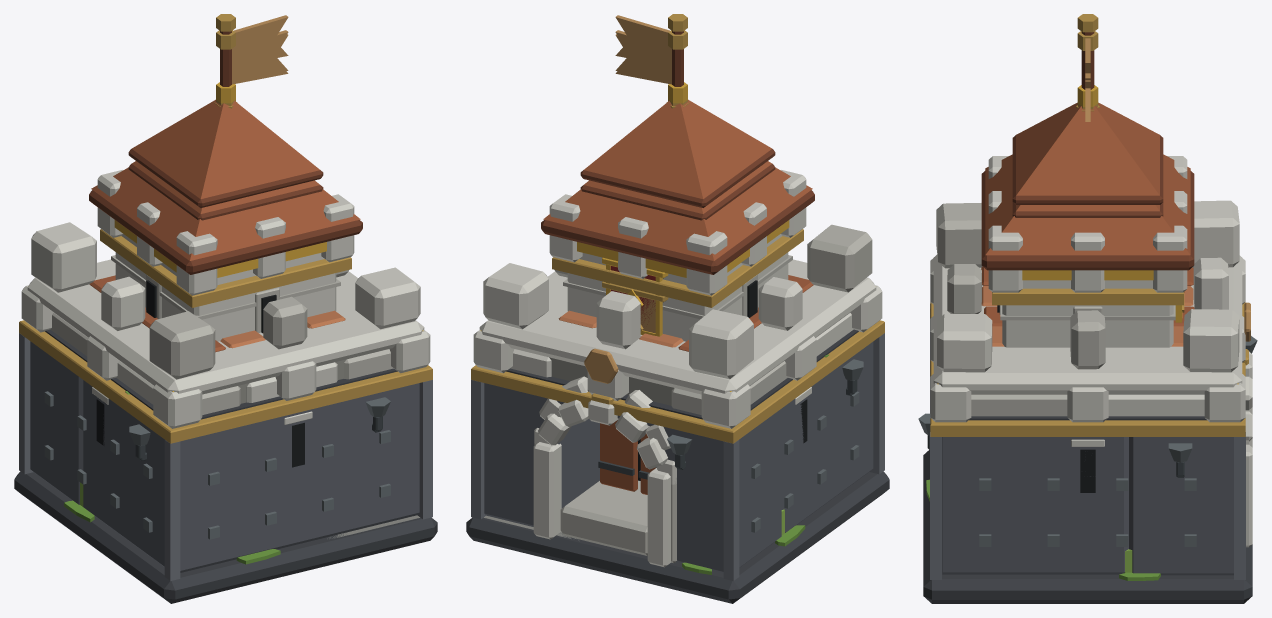
Rendered from barracks.glb.
The picture shows the model from 3 angles, left to right: view 1: azimuth 30°, elevation 25°; view 2: azimuth 150°, elevation 25°; view 3: azimuth 270°, elevation 25°; orthographic projection. The views are drawn at different scales.
Visible parts, largest first — view 1: BWAR_G_barracks__L2GroundBack, BWAR_G_barracks__Cornice, BWAR_G_barracks__L2Plinth, BWAR_G_barracks__L3Roof, BWAR_G_barracks__Roof, BWAR_G_barracks__L2Band, BWAR_G_barracks__L2GroundSide-1, BWAR_G_barracks__L2Merlons, BWAR_G_barracks__L2Quoins, BWAR_G_barracks__L2TowerBand, BWAR_G_barracks__RoofRim, BWAR_G_barracks__Merlon2 (+22 smaller); view 2: BWAR_G_barracks__Cornice, BWAR_G_barracks__L2GroundSide-1, BWAR_G_barracks__L2Plinth, BWAR_G_barracks__L2GroundBack, BWAR_G_barracks__L3Roof, BWAR_G_barracks__L2GroundSide1, BWAR_G_barracks__Roof, BWAR_G_barracks__L2Band, BWAR_G_barracks__L2Quoins, BWAR_G_barracks__L2Merlons, BWAR_G_barracks__Step, BWAR_G_barracks__L2GateArch (+30 smaller); view 3: BWAR_G_barracks__L2GroundBack, BWAR_G_barracks__L2GroundSide1, BWAR_G_barracks__Cornice, BWAR_G_barracks__L3Roof, BWAR_G_barracks__L2Plinth, BWAR_G_barracks__Roof, BWAR_G_barracks__L2Tower, BWAR_G_barracks__L2Band, BWAR_G_barracks__L2Merlons, BWAR_G_barracks__RoofRim, BWAR_G_barracks__L2Quoins, BWAR_G_barracks__Merlon7 (+23 smaller).
Boxes of the visible parts, bbox=[...] form: BWAR_G_barracks__L2GroundBack: bbox=[83, 380, 419, 572]; BWAR_G_barracks__Cornice: bbox=[27, 259, 424, 394]; BWAR_G_barracks__L2Plinth: bbox=[14, 471, 437, 603]; BWAR_G_barracks__L3Roof: bbox=[132, 99, 319, 198]; BWAR_G_barracks__Roof: bbox=[91, 167, 360, 260]; BWAR_G_barracks__L2Band: bbox=[19, 320, 432, 443]; BWAR_G_barracks__L2GroundSide-1: bbox=[30, 341, 83, 504]; BWAR_G_barracks__L2Merlons: bbox=[21, 285, 430, 428]; BWAR_G_barracks__L2Quoins: bbox=[19, 333, 432, 580]; BWAR_G_barracks__L2TowerBand: bbox=[100, 229, 351, 307]; BWAR_G_barracks__RoofRim: bbox=[89, 190, 362, 274]; BWAR_G_barracks__Merlon2: bbox=[31, 222, 96, 292]; BWAR_G_barracks__Cornice: bbox=[479, 259, 876, 394]; BWAR_G_barracks__L2GroundSide-1: bbox=[656, 409, 781, 573]; BWAR_G_barracks__L2Plinth: bbox=[466, 471, 889, 603]; BWAR_G_barracks__L2GroundBack: bbox=[781, 342, 873, 532]; BWAR_G_barracks__L3Roof: bbox=[584, 99, 771, 198]; BWAR_G_barracks__L2GroundSide1: bbox=[484, 383, 599, 526]; BWAR_G_barracks__Roof: bbox=[543, 167, 812, 260]; BWAR_G_barracks__L2Band: bbox=[471, 320, 884, 443]; BWAR_G_barracks__L2Quoins: bbox=[471, 333, 884, 580]; BWAR_G_barracks__L2Merlons: bbox=[473, 285, 882, 428]; BWAR_G_barracks__Step: bbox=[560, 480, 647, 555]; BWAR_G_barracks__L2GateArch: bbox=[533, 399, 670, 498]; BWAR_G_barracks__L2GroundBack: bbox=[942, 437, 1128, 574]; BWAR_G_barracks__L2GroundSide1: bbox=[1129, 437, 1233, 575]; BWAR_G_barracks__Cornice: bbox=[933, 254, 1242, 394]; BWAR_G_barracks__L3Roof: bbox=[1016, 102, 1159, 195]; BWAR_G_barracks__L2Plinth: bbox=[923, 449, 1252, 603]; BWAR_G_barracks__Roof: bbox=[985, 154, 1190, 255]; BWAR_G_barracks__L2Tower: bbox=[1002, 305, 1173, 347]; BWAR_G_barracks__L2Band: bbox=[930, 302, 1245, 436]; BWAR_G_barracks__L2Merlons: bbox=[930, 258, 1245, 422]; BWAR_G_barracks__RoofRim: bbox=[981, 171, 1194, 270]; BWAR_G_barracks__L2Quoins: bbox=[930, 304, 1245, 579]; BWAR_G_barracks__Merlon7: bbox=[1183, 309, 1239, 372].
Bounding box in the file's own units: 0.99 × 1.68 × 0.99.
